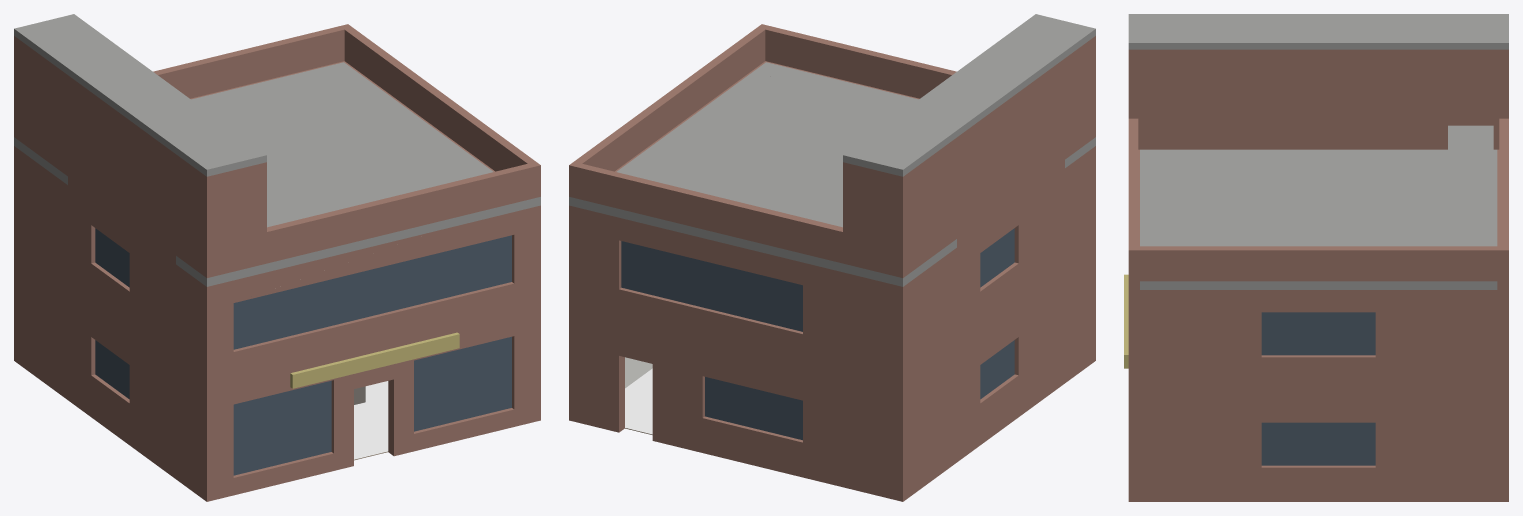
Rendered from townhouse.eaves-v1.lod0.glb.
3 views of the same model, side by side, from view 1: azimuth 30°, elevation 25°; view 2: azimuth 150°, elevation 25°; view 3: azimuth 270°, elevation 25° (orthographic).
Visible parts, largest first — view 1: townhouse; view 2: townhouse; view 3: townhouse.
Part boxes in pixels (bbox=[...]): townhouse: bbox=[14, 14, 540, 501]; townhouse: bbox=[569, 14, 1095, 501]; townhouse: bbox=[1124, 14, 1508, 501].
Bounding box in the file's own units: 10 × 9.5 × 10.12.
